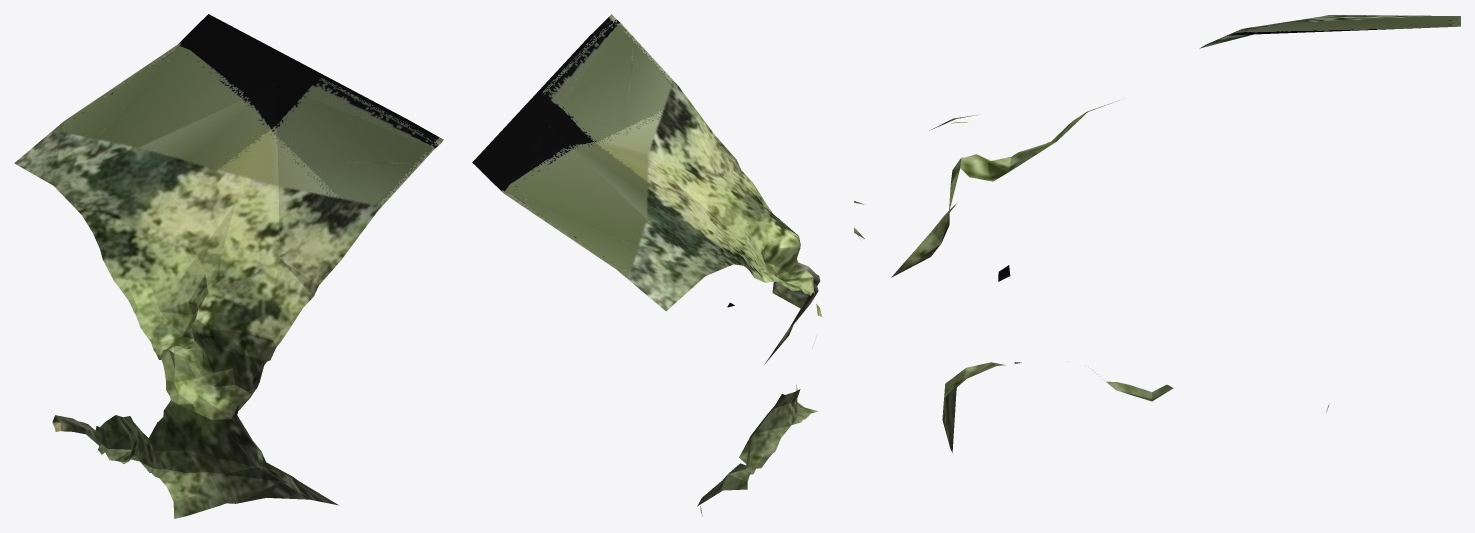
The picture shows the model from 3 angles, left to right: view 1: azimuth 30°, elevation 25°; view 2: azimuth 150°, elevation 25°; view 3: azimuth 270°, elevation 25°; orthographic projection. The views are drawn at different scales.
Bounding box in the file's own units: 4.39 × 5.9 × 5.9.
3 materials, 3 textured.
